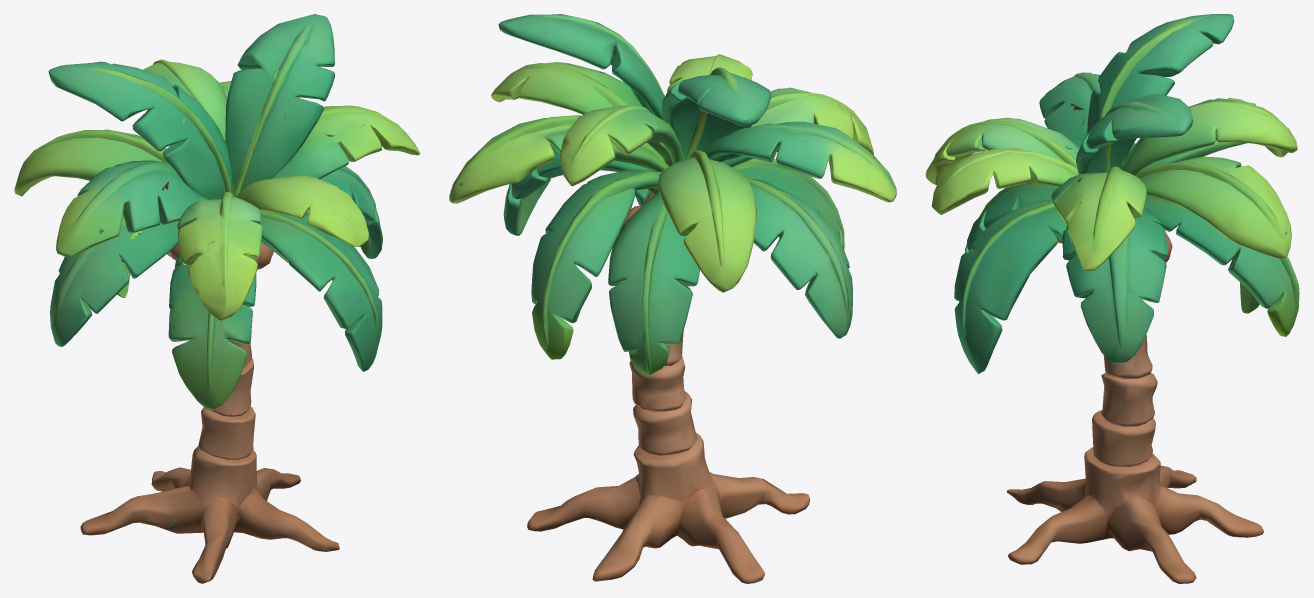
File: palm-cartoon-desktop-decimated.glb
The picture shows the model from 3 angles, left to right: view 1: azimuth 30°, elevation 25°; view 2: azimuth 150°, elevation 25°; view 3: azimuth 270°, elevation 25°; orthographic projection. The views are drawn at different scales.
Parts seen in each view (by area): view 1: model; view 2: model; view 3: model.
Boxes of the visible parts, left/top/right/bottom form: model: left=14, top=14, right=420, bottom=583; model: left=449, top=14, right=896, bottom=583; model: left=925, top=14, right=1299, bottom=583.
Bounding box in the file's own units: 1.57 × 1.9 × 1.36.
Materials: 1 (1 with a texture image).
